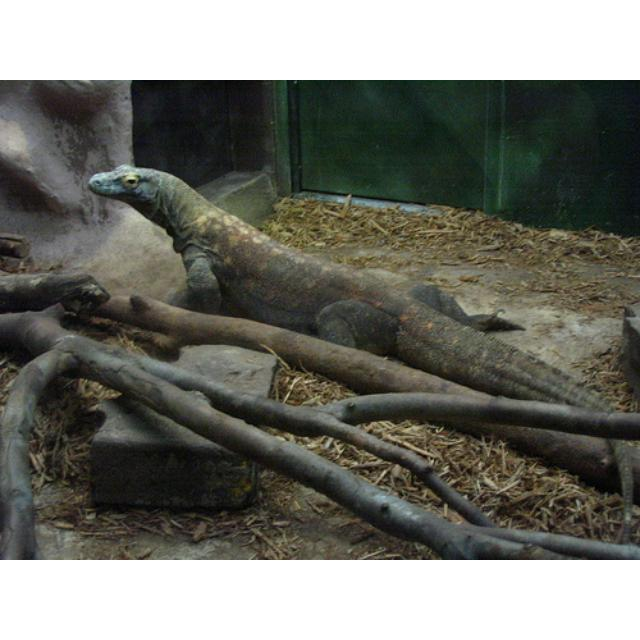KomodoDragon: (89, 162, 626, 416)
